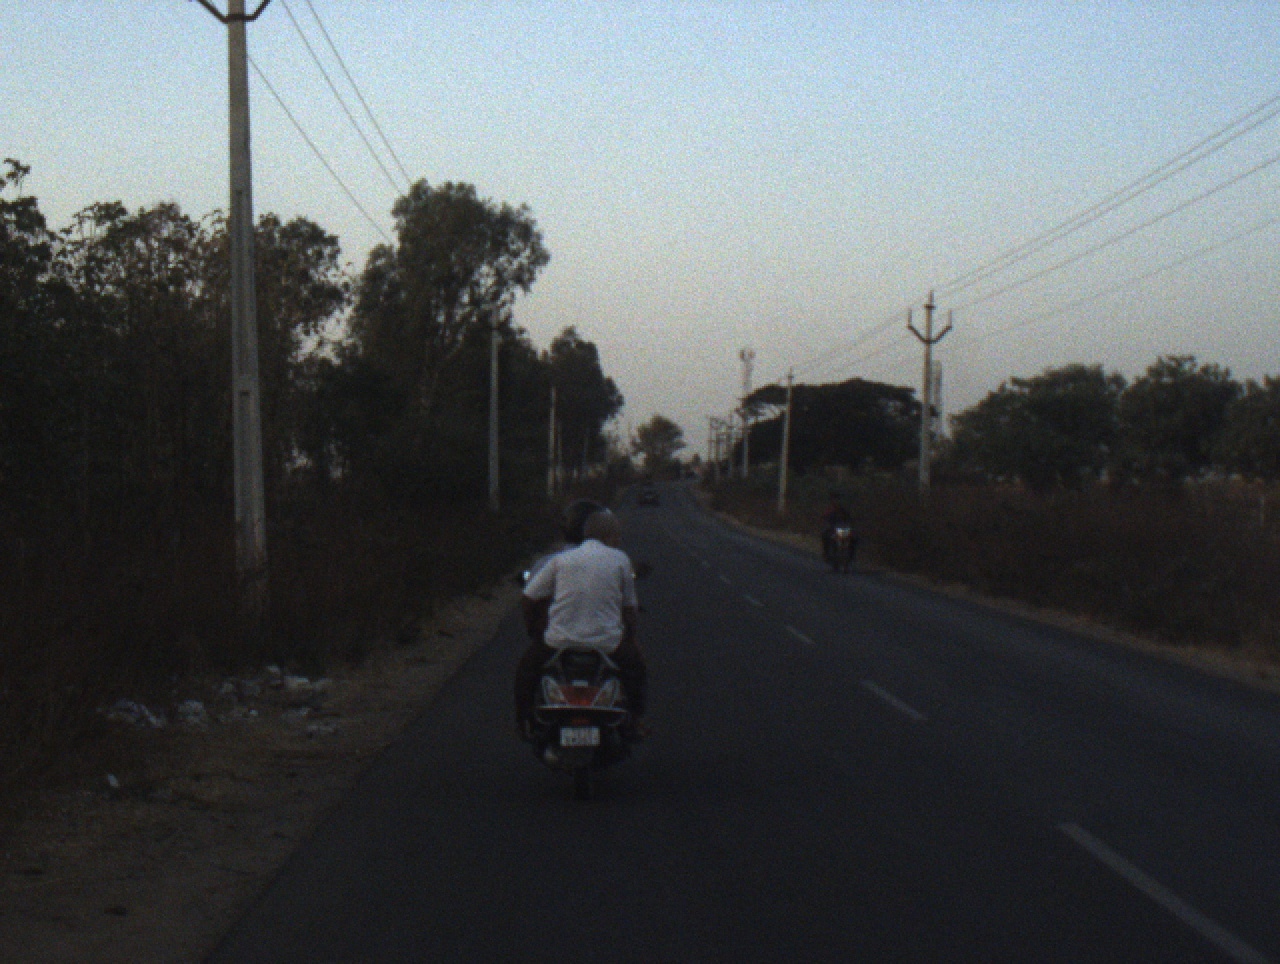car: (637, 479, 661, 510)
motorcycle: (511, 559, 669, 805), (819, 516, 860, 580)
rider: (509, 510, 649, 762), (528, 498, 605, 582), (813, 493, 857, 570)
